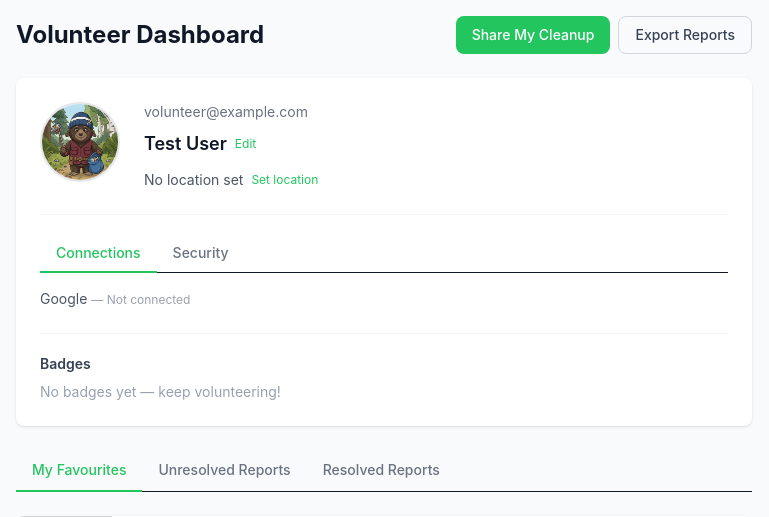
Test: VolunteerDashboard › shows error when name update fails
Expected: the text "Test User" is shown, [144, 130, 227, 158]
Step 1. Click the button "Edit" → (246, 144), box [235, 136, 256, 152]
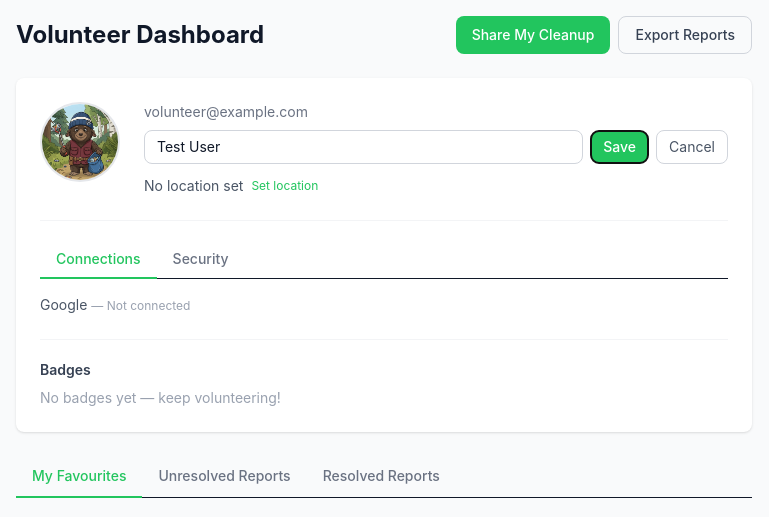
Step 2. Click the button "Save" → (620, 147), box [591, 131, 648, 163]
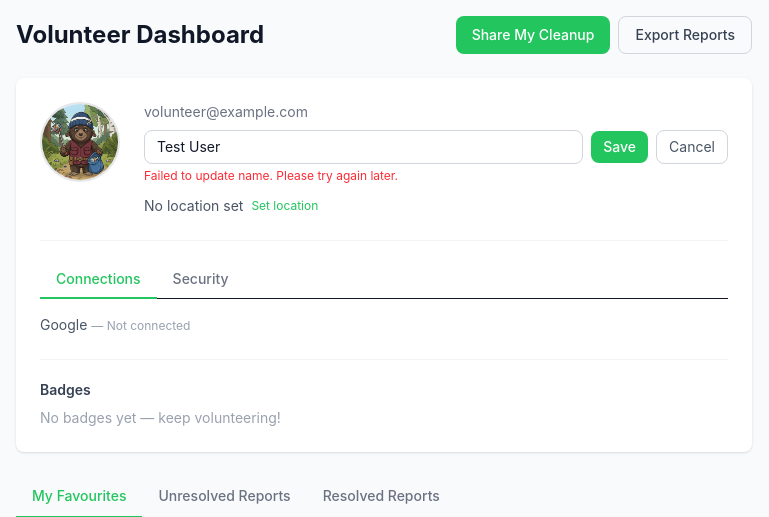
Result: the text "Failed to update name. Please try again later." is shown at [144, 168, 398, 183]
